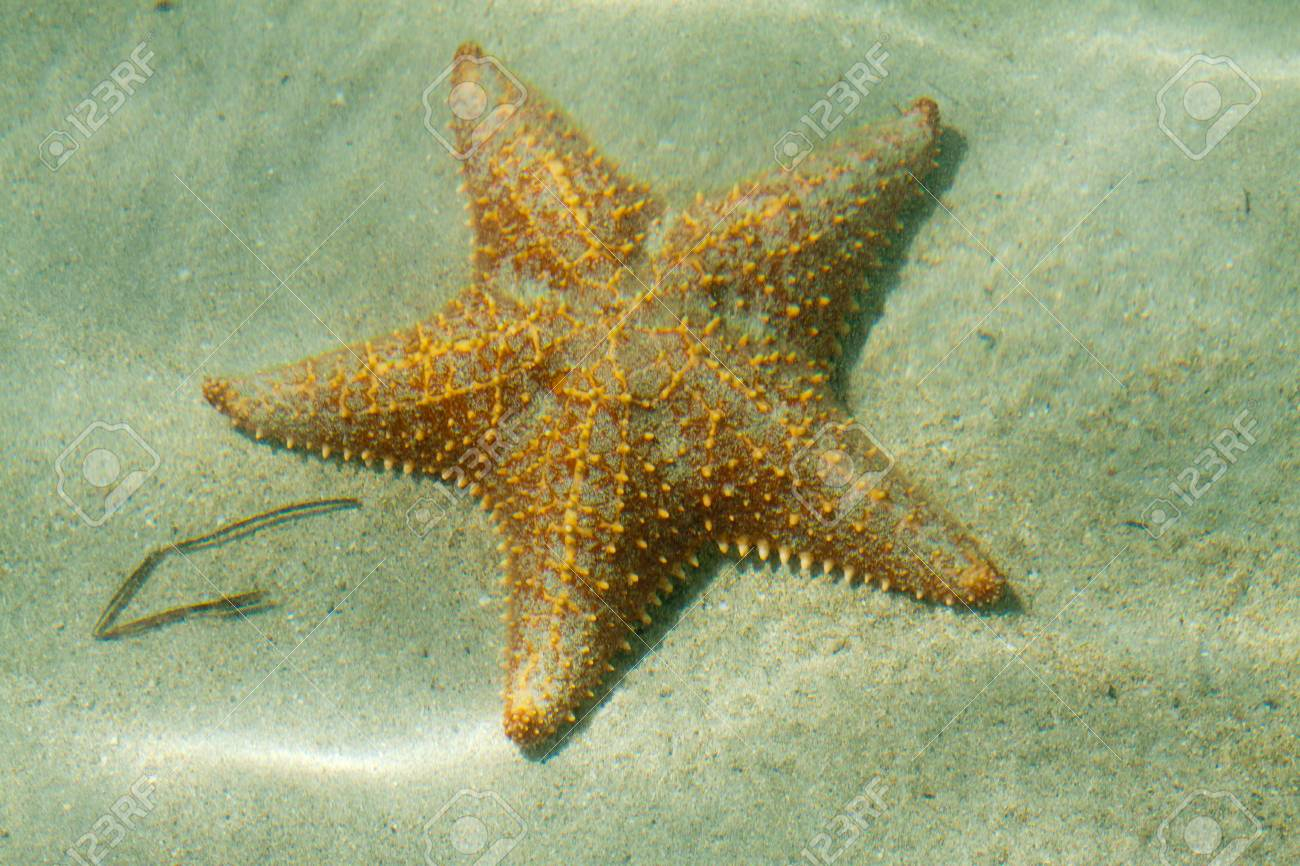starfish: (179, 31, 1053, 737)
